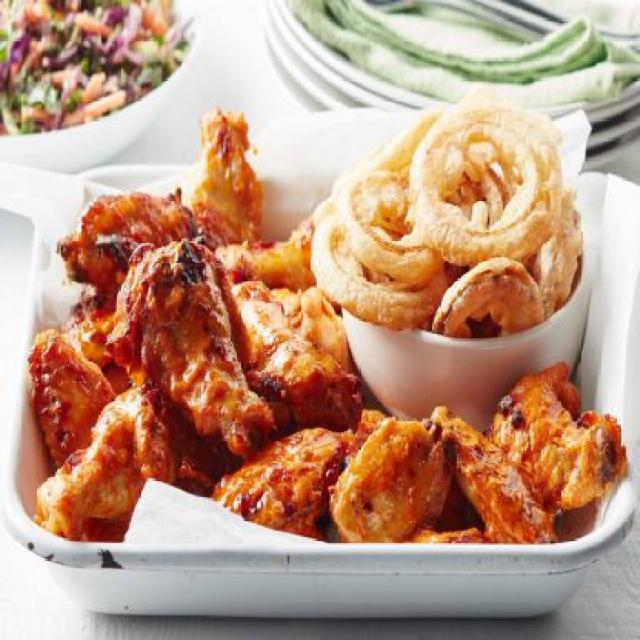chicken wings: (31, 104, 629, 565)
onion rings: (314, 82, 594, 368)
